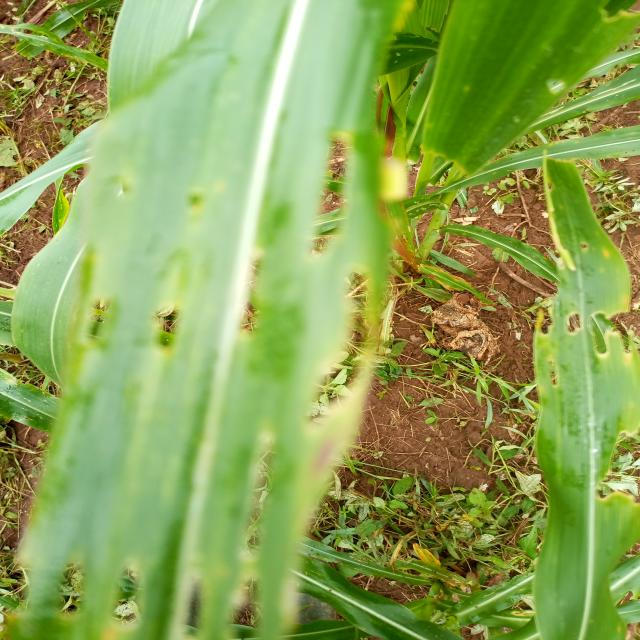fall-armyworm-larval-damage: (8, 1, 434, 640), (531, 296, 639, 359), (584, 419, 640, 514)
